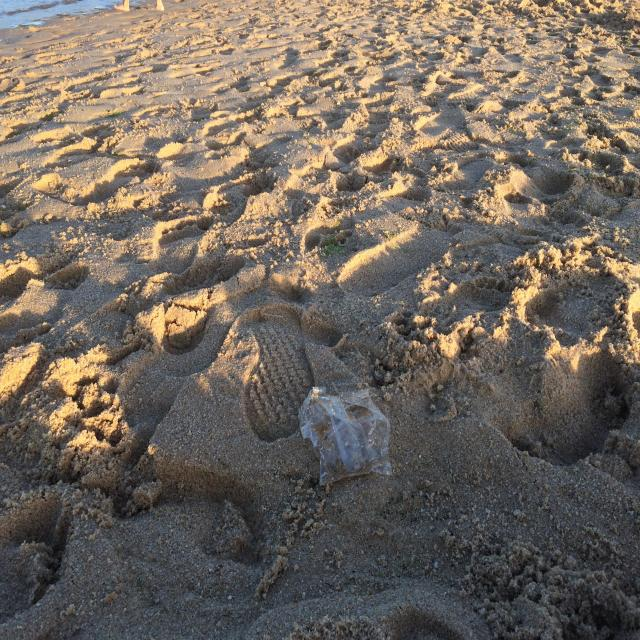litter: (297, 386, 392, 485)
